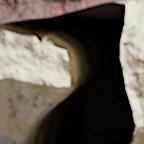brick: (0, 0, 107, 21)
crack: (0, 0, 141, 143)
